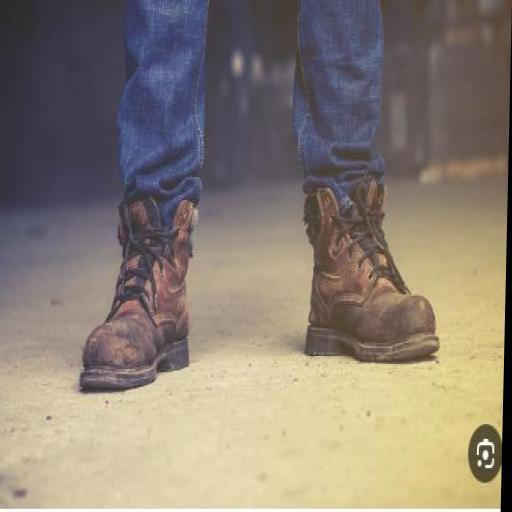safety_boots: (268, 184, 452, 377), (63, 202, 219, 406)
